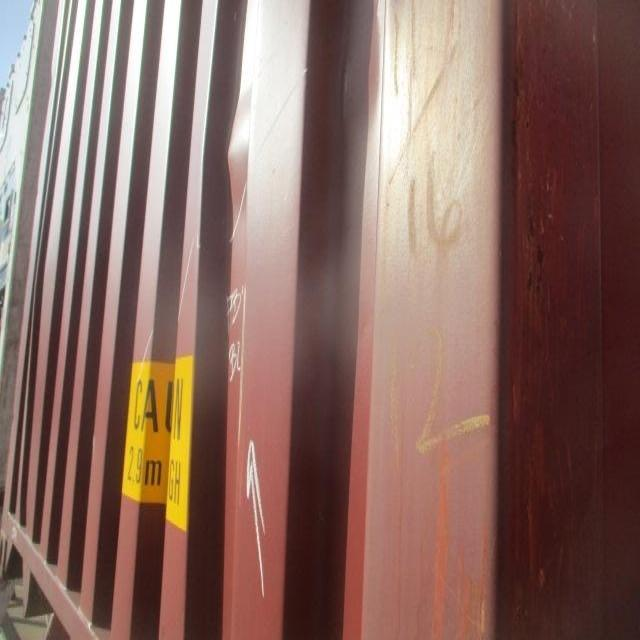dent: (200, 64, 260, 250)
